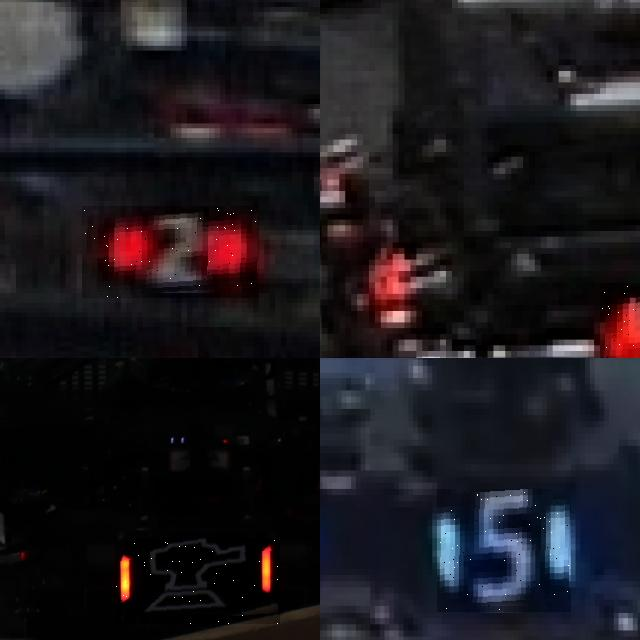B5: (437, 489, 571, 612)
R2: (82, 206, 259, 298), (600, 282, 640, 358)
Rs: (115, 538, 280, 624)
